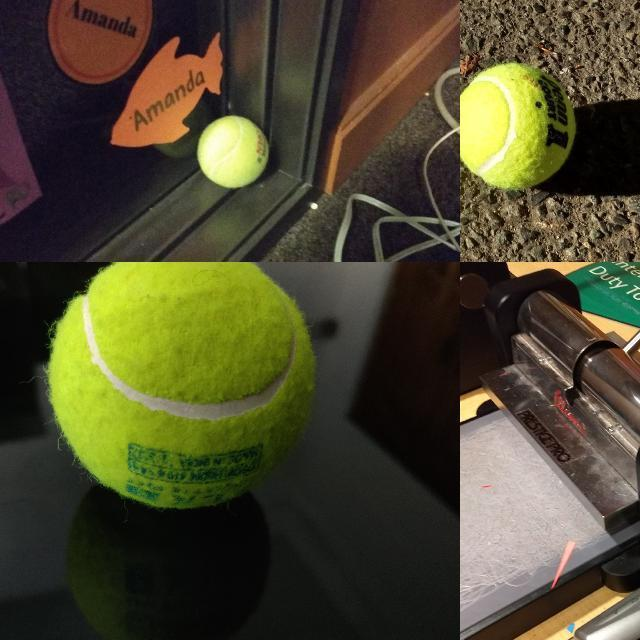tennis-ball: (47, 262, 316, 511), (460, 63, 578, 192), (196, 115, 270, 189)
